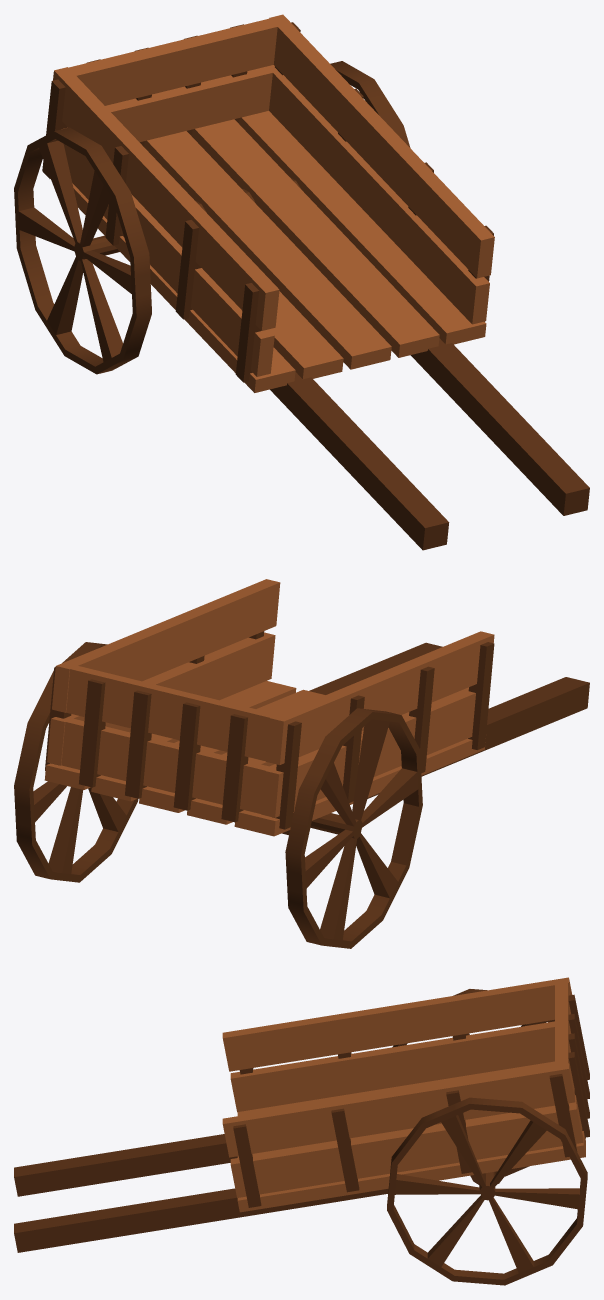
The model's file is Powozka1.fbx.
3 renders of one model, top to bottom at view 1: azimuth 30°, elevation 25°; view 2: azimuth 150°, elevation 25°; view 3: azimuth 270°, elevation 25°, orthographic. The views are drawn at different scales.
Parts seen in each view (by area): view 1: Cylinder030, Box009, Box008, Box014, Box013, Box012, Box010, Box024, Box029, Box030, Box023, Box011 (+6 smaller); view 2: Cylinder030, Box014, Box012, Box024, Box023, Box013, Box011, Box029, Box006, Box010, Box026, Box025 (+10 smaller); view 3: Box012, Cylinder030, Box011, Box014, Box013, Box030, Box029, Box010, Box006, Box024, Box019, Box020 (+7 smaller).
Part boxes in pixels (bbox=[...]): Cylinder030: bbox=[14, 61, 410, 374]; Box009: bbox=[191, 119, 439, 357]; Box008: bbox=[144, 131, 391, 369]; Box014: bbox=[269, 14, 494, 278]; Box013: bbox=[267, 65, 489, 324]; Box012: bbox=[53, 67, 279, 330]; Box010: bbox=[239, 111, 486, 344]; Box024: bbox=[65, 18, 277, 105]; Box029: bbox=[270, 372, 449, 550]; Box030: bbox=[410, 338, 589, 515]; Box023: bbox=[105, 66, 272, 142]; Box011: bbox=[63, 127, 274, 376]; Cylinder030: bbox=[14, 642, 422, 948]; Box014: bbox=[52, 579, 280, 712]; Box012: bbox=[266, 631, 494, 764]; Box024: bbox=[66, 666, 281, 761]; Box023: bbox=[61, 718, 276, 813]; Box013: bbox=[47, 632, 275, 765]; Box011: bbox=[261, 687, 475, 817]; Box029: bbox=[367, 677, 589, 798]; Box006: bbox=[234, 738, 485, 836]; Box010: bbox=[44, 681, 296, 789]; Box026: bbox=[125, 690, 151, 798]; Box025: bbox=[79, 679, 105, 787]; Box012: bbox=[222, 977, 572, 1071]; Cylinder030: bbox=[387, 989, 587, 1285]; Box011: bbox=[230, 1021, 554, 1112]; Box014: bbox=[222, 1063, 575, 1157]; Box013: bbox=[230, 1104, 583, 1197]; Box030: bbox=[14, 1188, 388, 1252]; Box029: bbox=[14, 1134, 237, 1196]; Box010: bbox=[237, 1131, 585, 1212]; Box006: bbox=[237, 1061, 554, 1115]; Box024: bbox=[555, 981, 574, 1091]; Box019: bbox=[233, 1124, 261, 1207]; Box020: bbox=[331, 1108, 359, 1192].
Size of the model in its own units: 0.698 by 0.5787 by 1.48.
